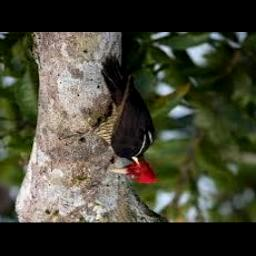Woodpecker: (62, 56, 158, 185)
